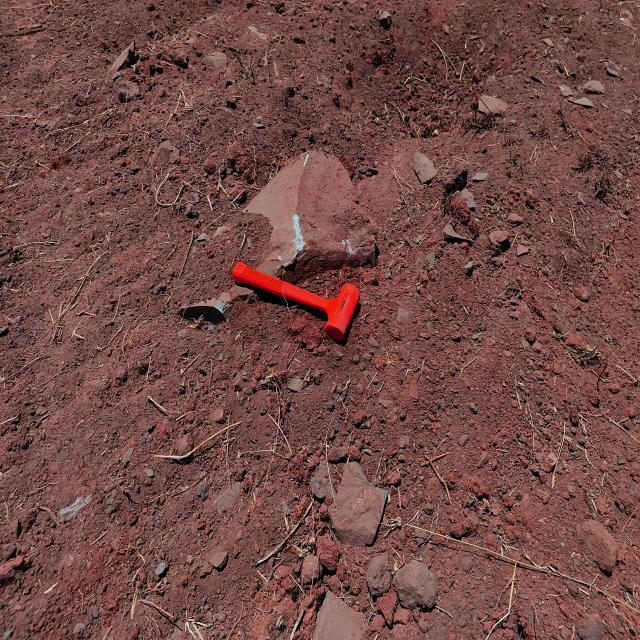Orange_hammer: (230, 260, 360, 344)
